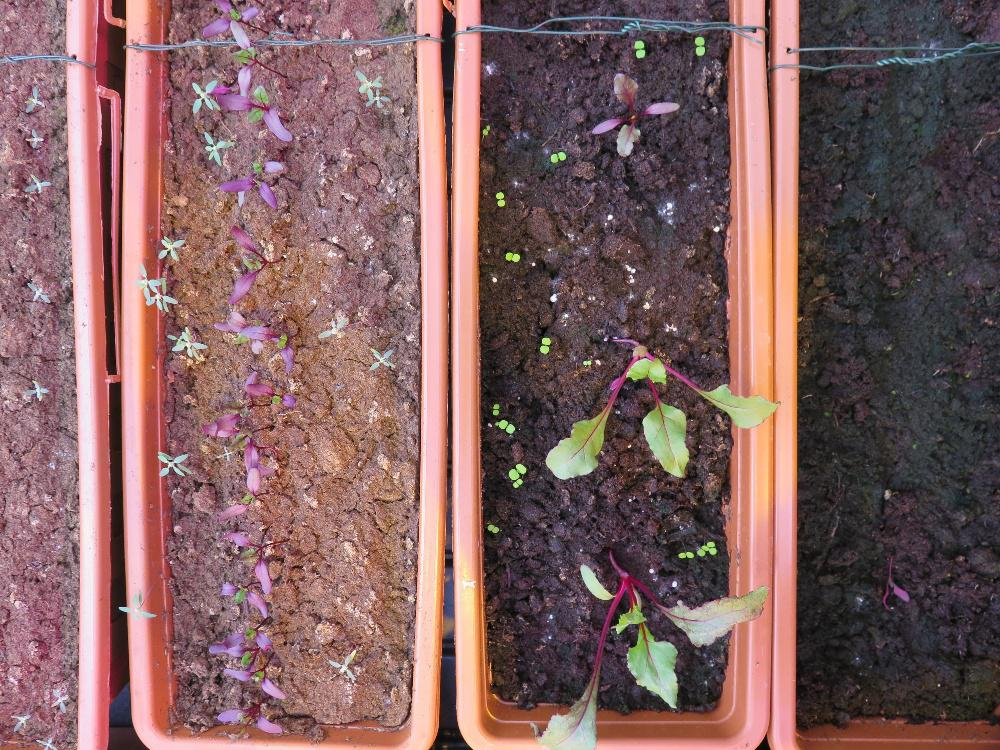weed: (155, 446, 194, 478), (326, 646, 358, 685), (314, 312, 349, 341), (20, 169, 54, 196), (367, 344, 397, 372), (18, 376, 50, 402), (21, 81, 44, 114), (24, 278, 51, 305), (21, 124, 45, 151), (7, 710, 32, 734), (49, 684, 68, 715), (632, 36, 646, 60), (693, 34, 705, 58), (548, 148, 567, 163), (538, 334, 550, 354), (503, 249, 520, 262), (674, 548, 693, 559), (485, 520, 499, 534), (494, 189, 504, 208), (480, 120, 490, 137), (490, 401, 499, 416), (581, 357, 593, 365)
